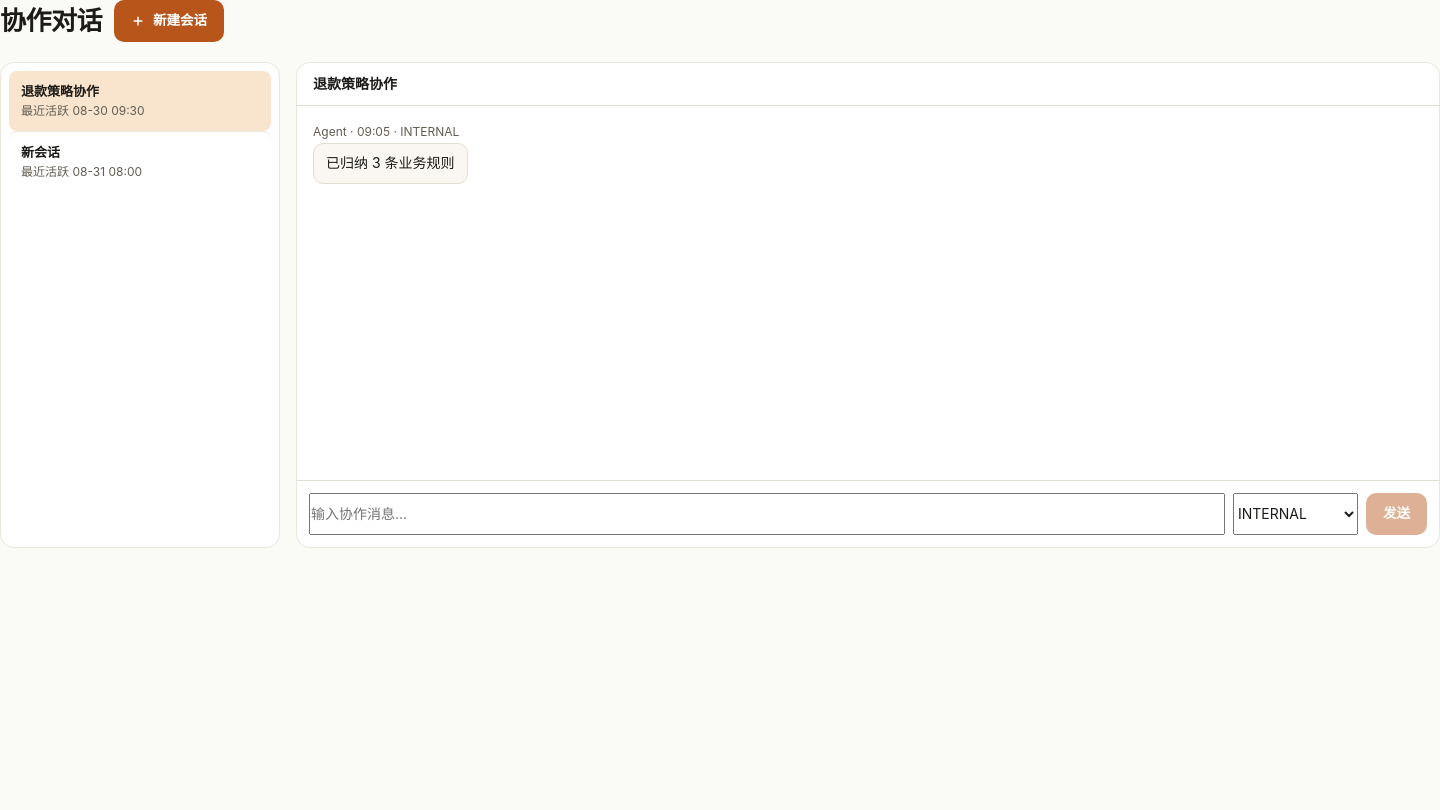
Scenario: ConversationPage（WP-03 前端接入） › 新建会话：标题必填，提交后关闭弹层并选中新会话
Click the button "新建会话": (169, 21) x1=114 y1=0 x2=224 y2=42
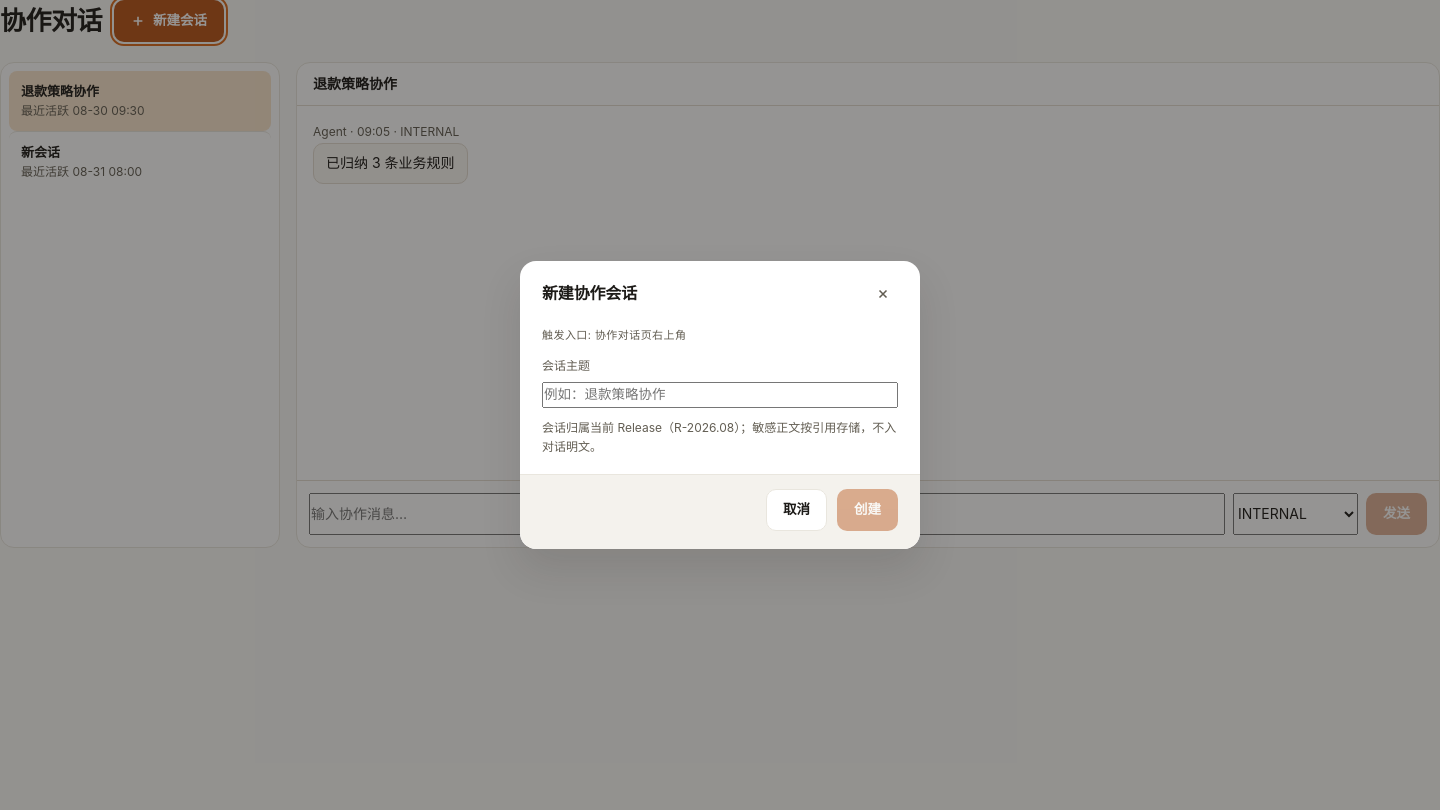
Expected: the button "创建" is disabled, x1=837 y1=489 x2=898 y2=531
In the field labelled "会话主题": (720, 395) x1=542 y1=382 x2=898 y2=408, type "新会话"
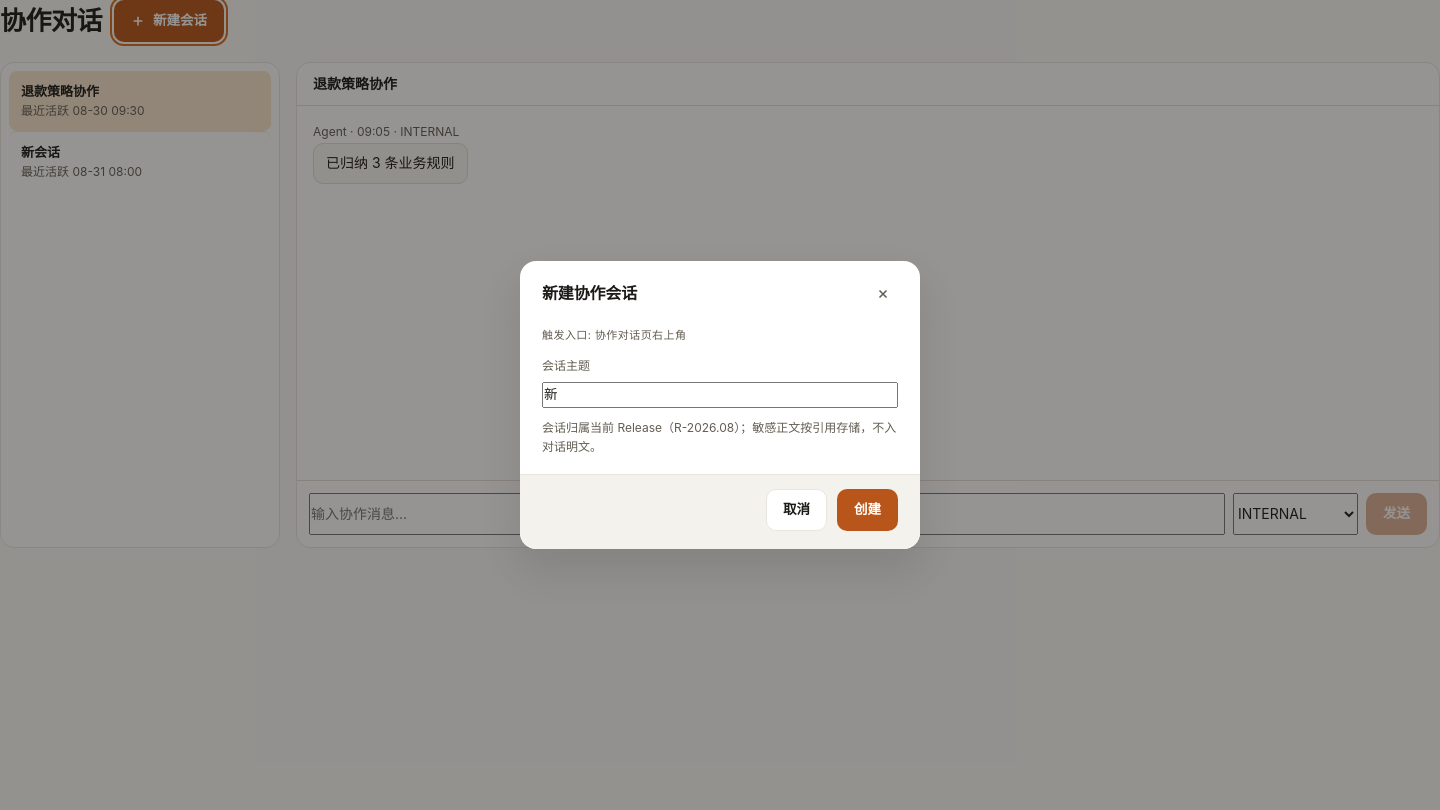
Expected: the button "创建" is enabled
Click the button "创建": (868, 510) x1=837 y1=489 x2=898 y2=531
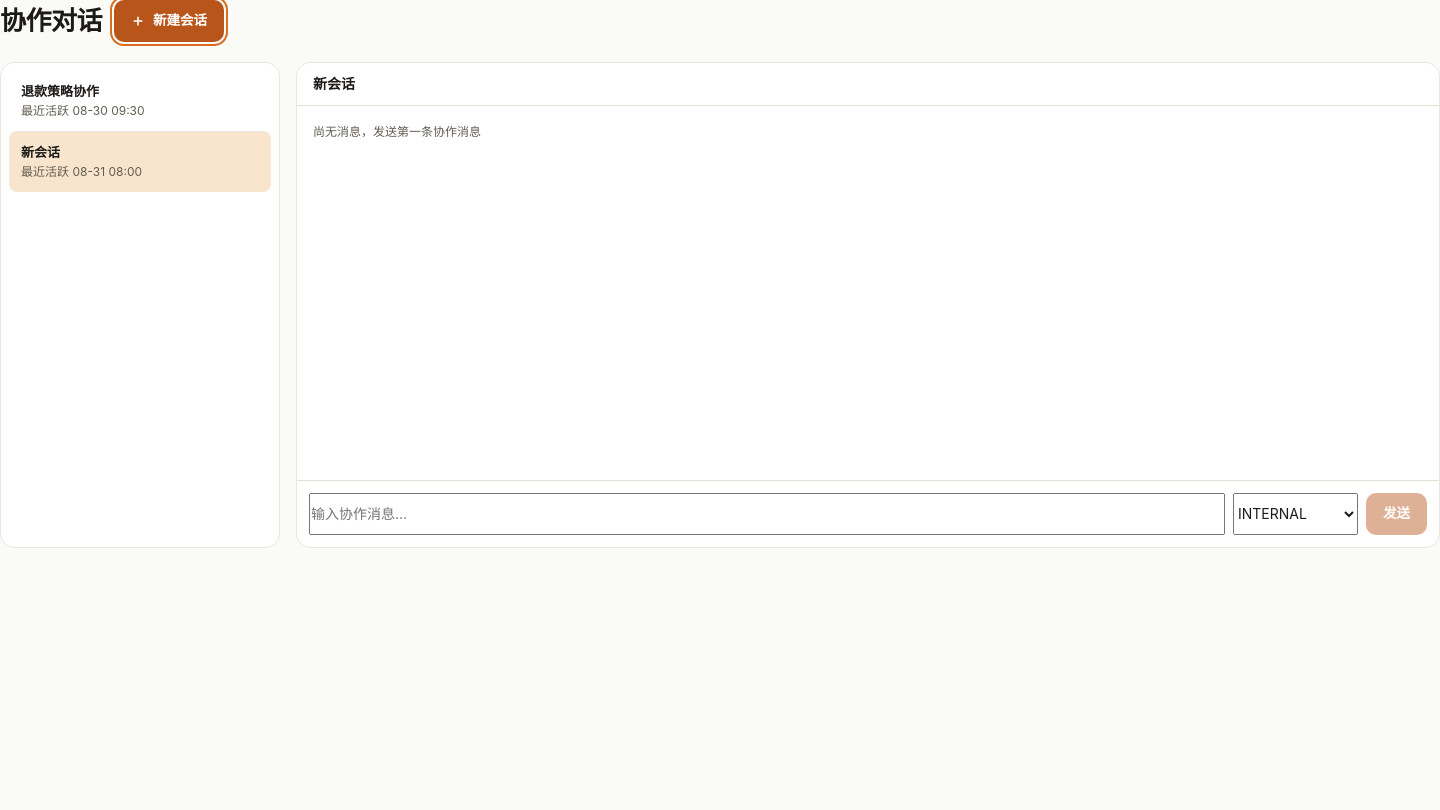
Expected: the heading "新建协作会话" is gone
